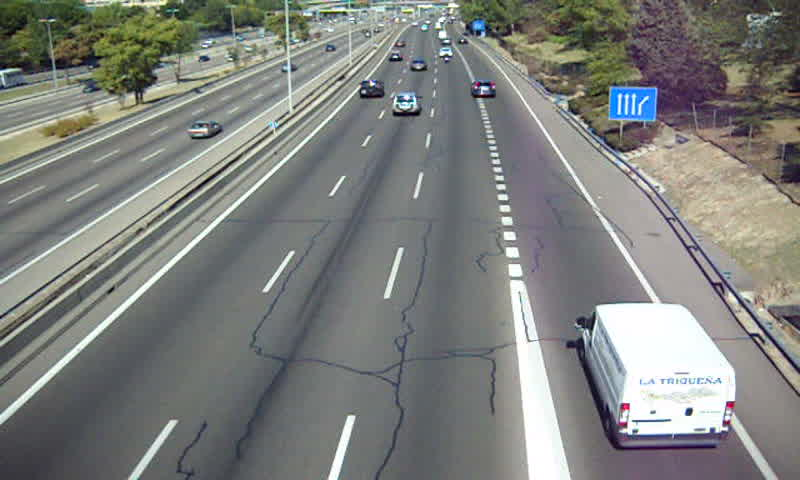car: (392, 92, 424, 116), (472, 80, 498, 100), (359, 80, 384, 100), (408, 59, 429, 72)
van: (581, 303, 738, 447)
